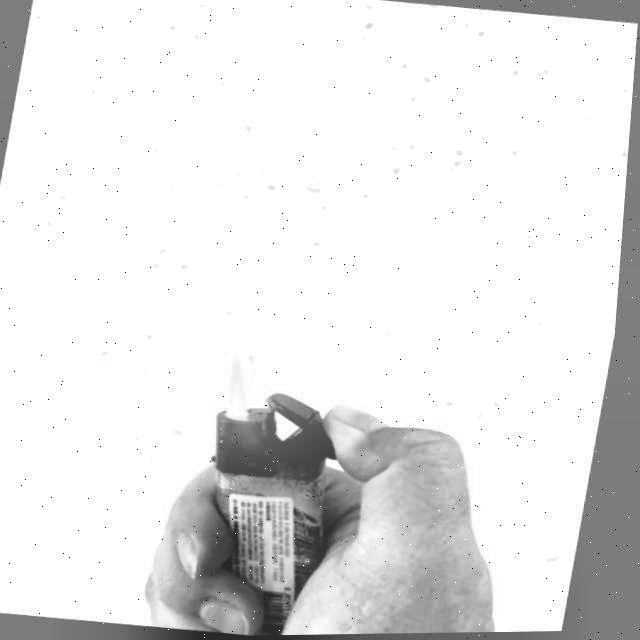Fire: (224, 341, 263, 416)
